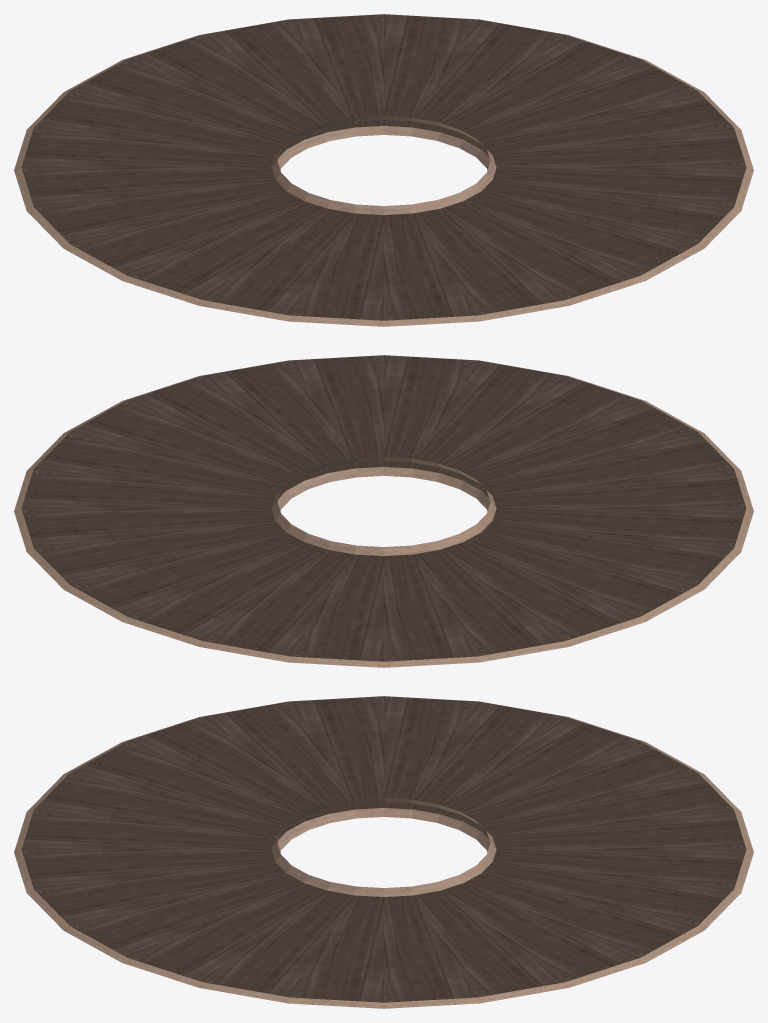
The model's file is LoveDeath_Disc_Art.glb.
3 views of the same model, one above another, from view 1: azimuth 30°, elevation 25°; view 2: azimuth 150°, elevation 25°; view 3: azimuth 270°, elevation 25° (orthographic).
Parts seen in each view (by area): view 1: LoveDeath_Disc_Art; view 2: LoveDeath_Disc_Art; view 3: LoveDeath_Disc_Art.
Boxes of the visible parts, x1=… form: LoveDeath_Disc_Art: x1=14, y1=14, x2=753, y2=326; LoveDeath_Disc_Art: x1=14, y1=355, x2=753, y2=667; LoveDeath_Disc_Art: x1=14, y1=696, x2=753, y2=1008.
Bounding box in the file's own units: 9 × 0.2526 × 9.
1 material, 1 textured.
